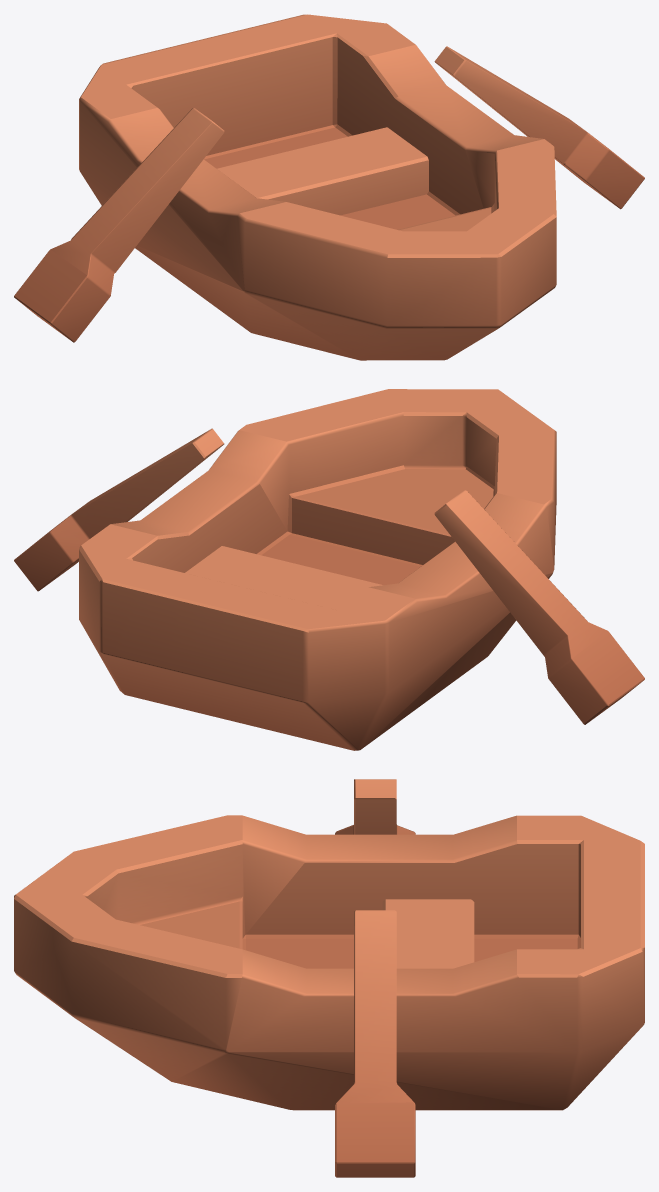
File: kenney-pirate__boat-row-small.glb
The picture shows the model from 3 angles, top to bottom: view 1: azimuth 30°, elevation 25°; view 2: azimuth 150°, elevation 25°; view 3: azimuth 270°, elevation 25°; orthographic projection. The views are drawn at different scales.
Visible parts, largest first — view 1: boat-row-small, paddles; view 2: boat-row-small, paddles; view 3: boat-row-small, paddles.
Part boxes in pixels (x1,y1,x2,y2): boat-row-small: [79, 14, 556, 360]; paddles: [14, 46, 644, 342]; boat-row-small: [79, 389, 556, 750]; paddles: [14, 428, 644, 724]; boat-row-small: [14, 815, 644, 1110]; paddles: [335, 779, 415, 1177].
Size of the model in its own units: 2.74 by 0.8454 by 2.37.
Materials: 1 (1 with a texture image).
